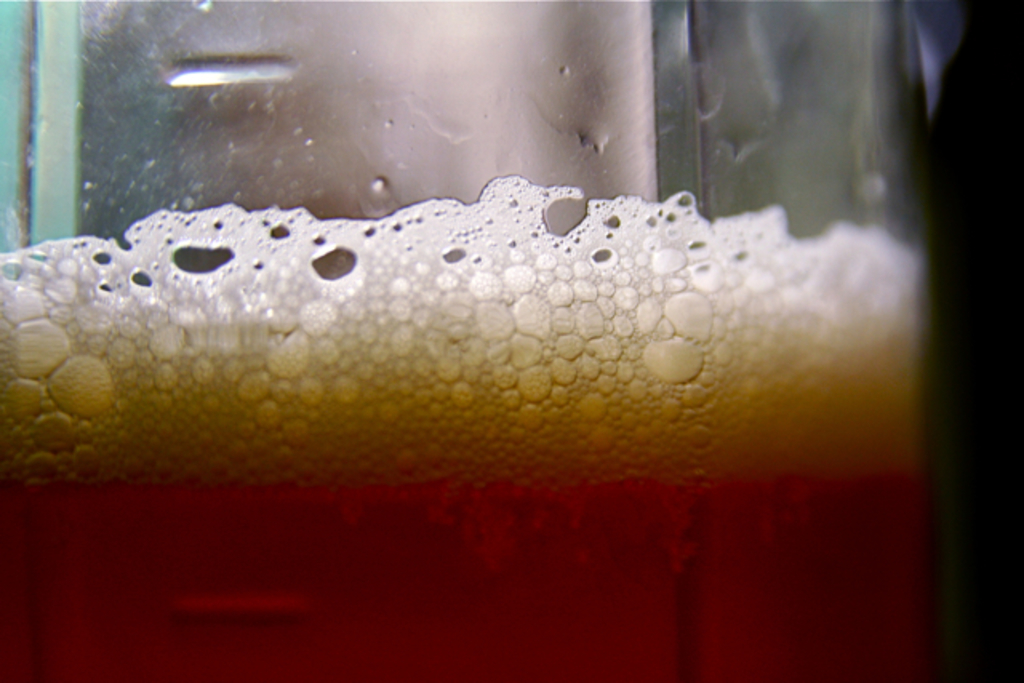Beer: (0, 0, 1022, 681)
